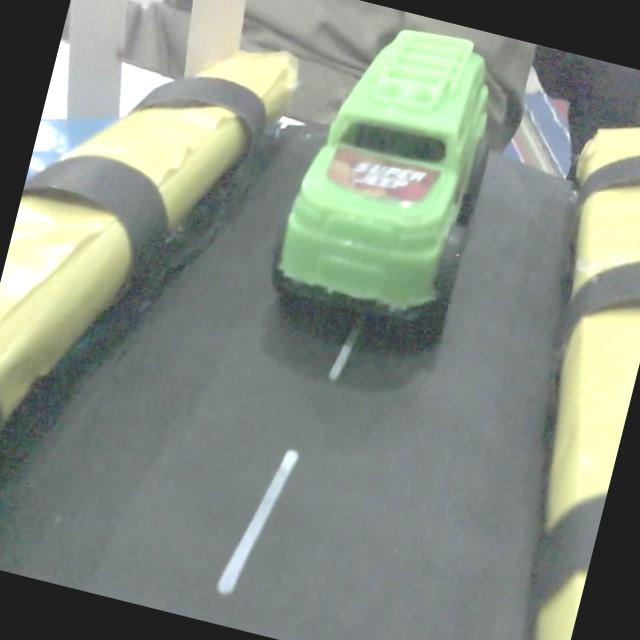OneCar: (273, 31, 488, 338)
